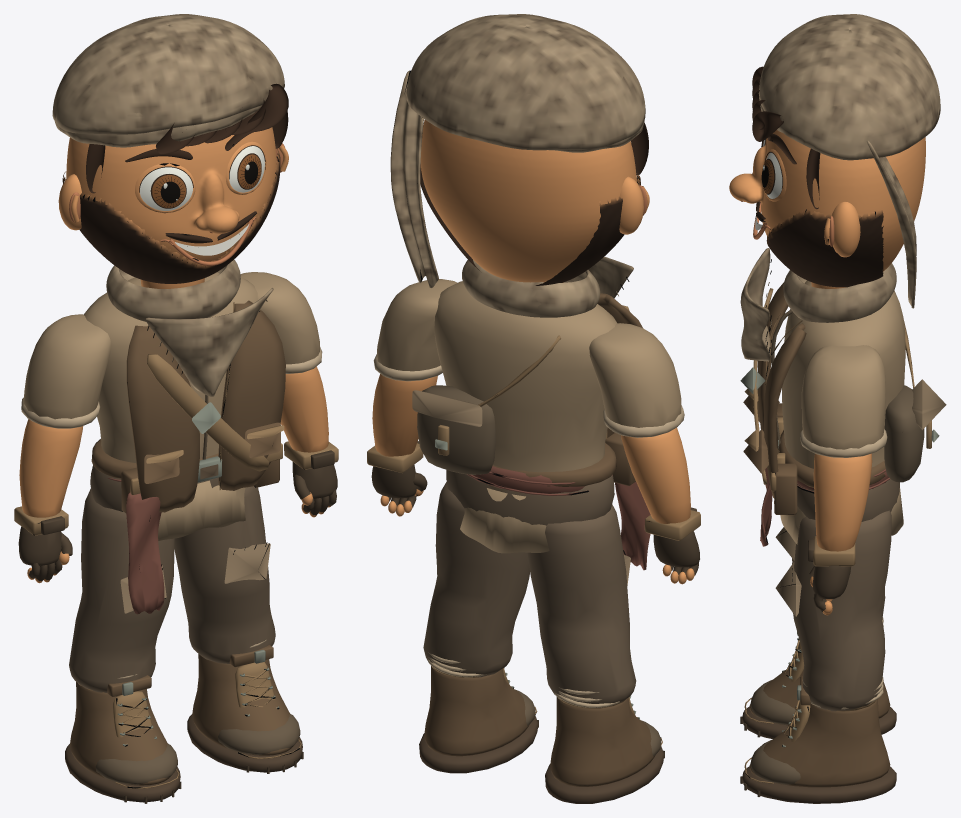
File: terrorist-source.glb
3 renders of one model, left to right at view 1: azimuth 30°, elevation 25°; view 2: azimuth 150°, elevation 25°; view 3: azimuth 270°, elevation 25°, orthographic. The views are drawn at different scales.
Parts seen in each view (by area): view 1: terrorist-atlas-source; view 2: terrorist-atlas-source; view 3: terrorist-atlas-source.
Part boxes in pixels (x1,y1,x2,y2): terrorist-atlas-source: (14,14,338,803); terrorist-atlas-source: (367,14,700,803); terrorist-atlas-source: (729,14,946,803).
Size of the model in its own units: 1.48 by 3.26 by 0.8844.
Materials: 1 (1 with a texture image).
